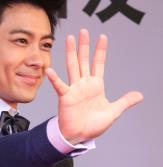down: (44, 25, 146, 140)
